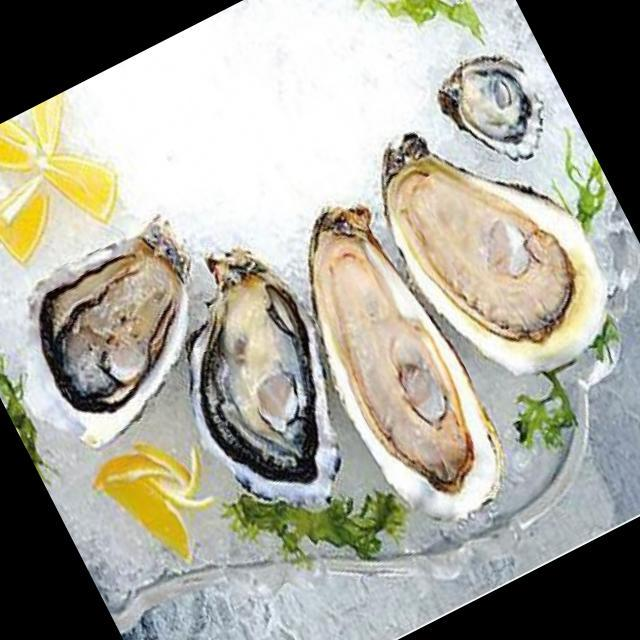Oyster-Open: (262, 184, 538, 556), (348, 78, 637, 410), (127, 223, 396, 549), (0, 214, 249, 472), (425, 34, 569, 189)
